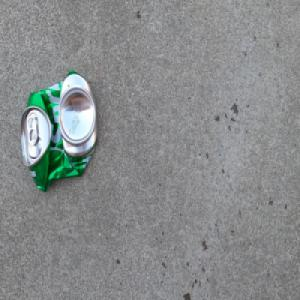SodaCan: (19, 68, 98, 194)
